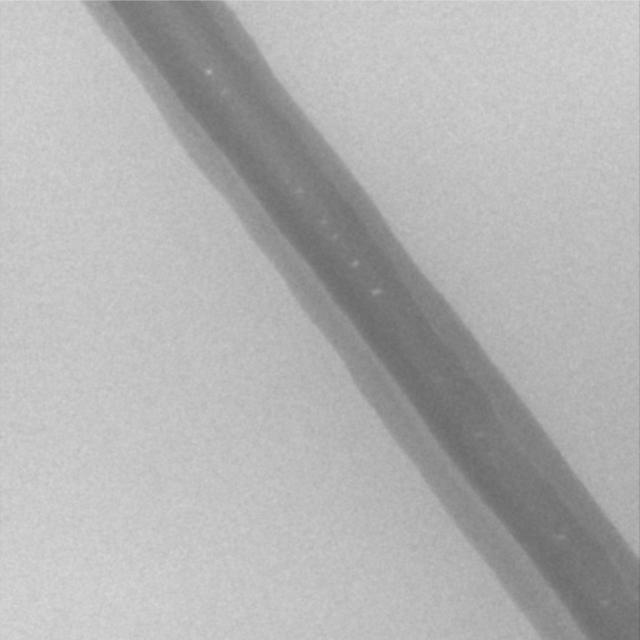air hole: (553, 533, 568, 542), (370, 286, 382, 296), (350, 259, 360, 267), (204, 67, 213, 75)
